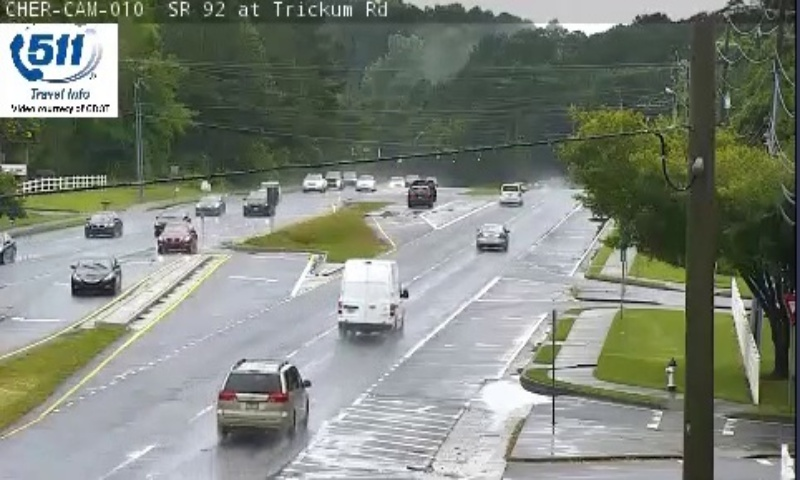car: (215, 360, 308, 429), (478, 223, 507, 247), (501, 184, 521, 203)
van: (338, 259, 403, 333)
